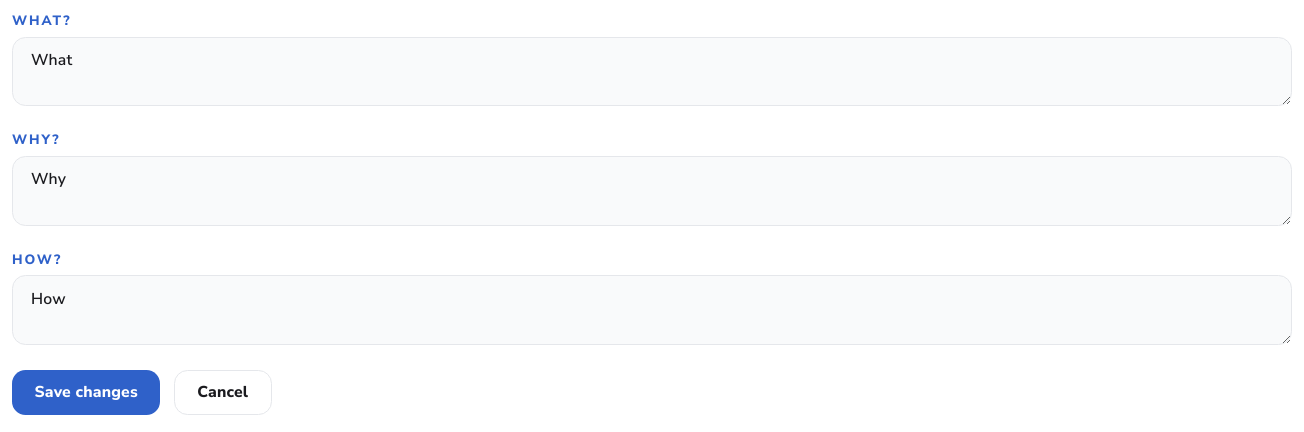
Scenario: NotebookEntryEditForm › disables save when how is empty
The width and height of the screenshot is (1304, 432).
Clear the text box labelled "How?" at {"x": 652, "y": 310}, box [12, 275, 1292, 345]
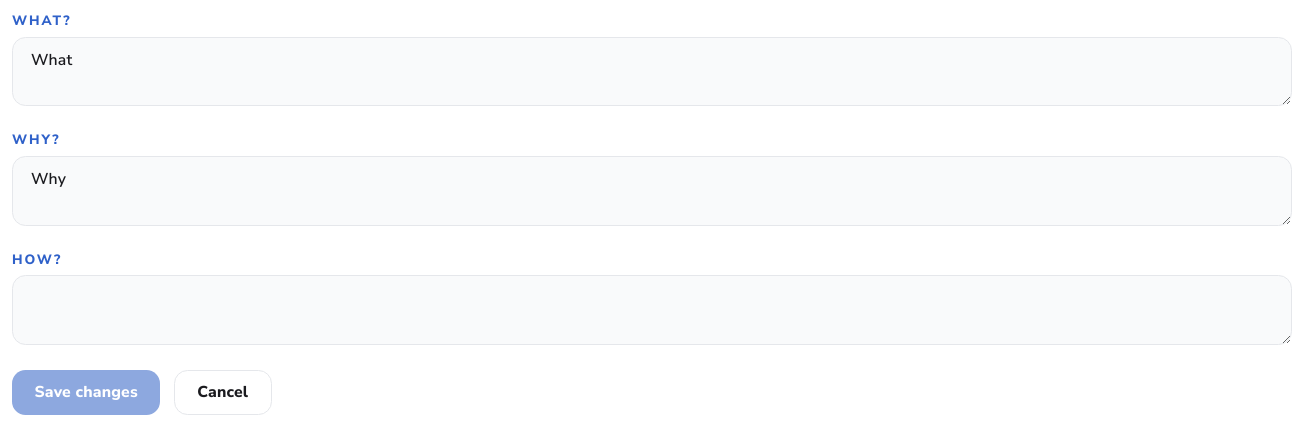
Expected: the button "Save changes" is disabled, [12, 370, 160, 415]
